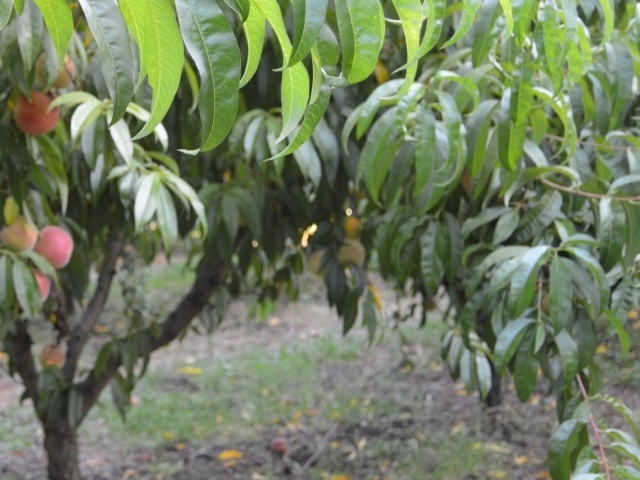peach: (11, 87, 65, 140), (25, 224, 77, 273), (29, 47, 81, 93), (332, 237, 368, 271), (36, 341, 68, 372), (305, 247, 335, 278)
